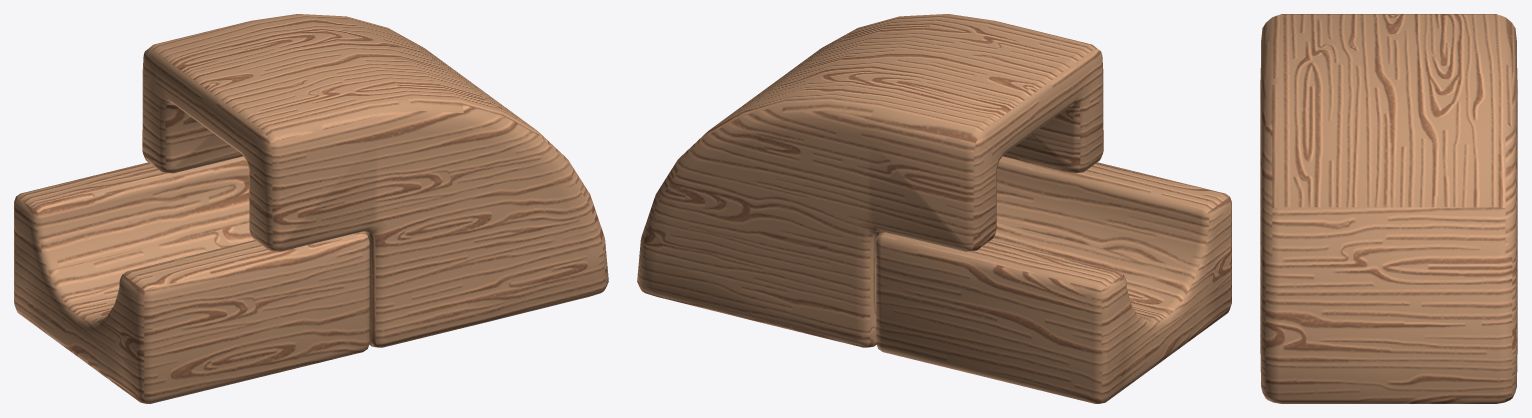
The model's file is 02 Slide.fbx.
3 views of the same model, side by side, from view 1: azimuth 30°, elevation 25°; view 2: azimuth 150°, elevation 25°; view 3: azimuth 270°, elevation 25° (orthographic). The views are drawn at different scales.
Visible parts, largest first — view 1: Wheel_07.001, pCube1.004; view 2: Wheel_07.001, pCube1.004; view 3: Wheel_07.001.
Part boxes in pixels (box(x1,y1,x2,y2)): Wheel_07.001: box(142, 14, 608, 347); pCube1.004: box(14, 156, 369, 403); Wheel_07.001: box(637, 14, 1103, 347); pCube1.004: box(876, 156, 1231, 403); Wheel_07.001: box(1260, 14, 1517, 403).
Bounding box in the file's own units: 206 × 100 × 100.
1 material, 1 textured.
